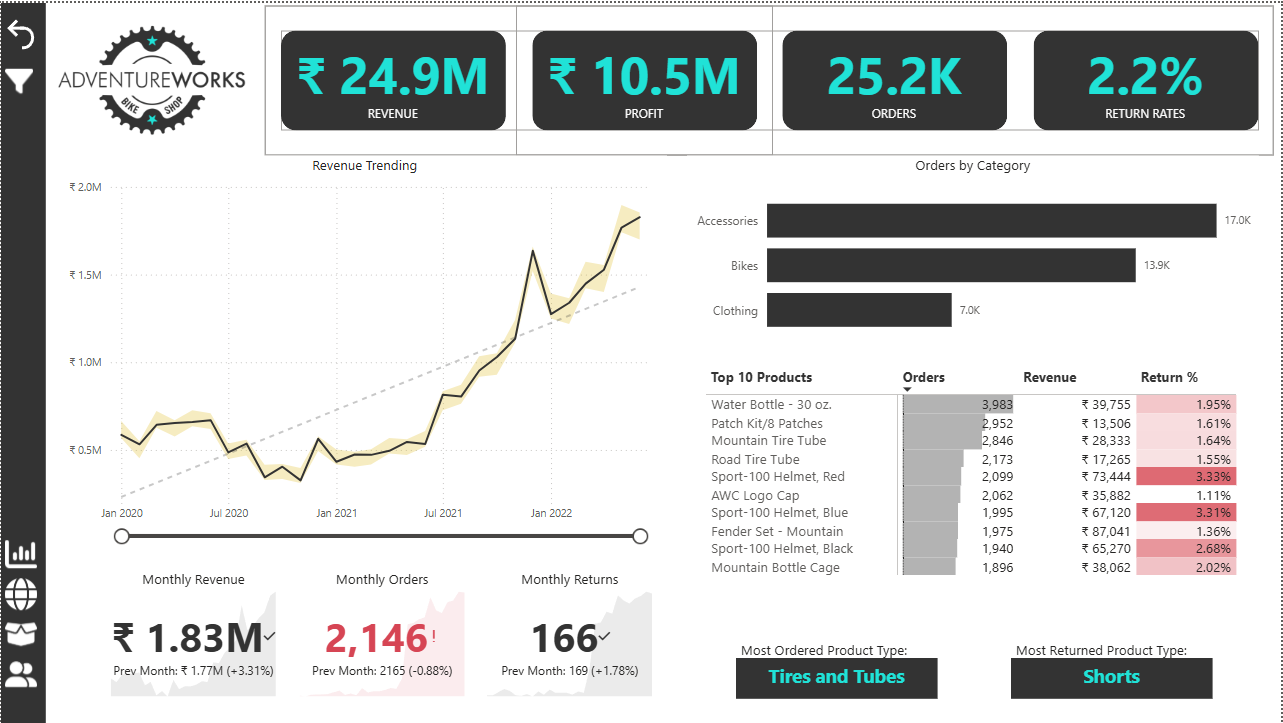

This screenshot's page, from the dashboard's own definition file:
{"tool":"powerbi","page":{"name":"Exec Dashboard","canvas":[1280,720],"ordinal":0},"visuals":[{"type":"card","fields":{"Values":["Measure Table.Total Profit"]},"box":[514.6,2.5,256.2,150],"z":0,"group":"g2"},{"type":"image","title":"AW Logo","box":[32.5,11.2,237.5,132.5],"z":0},{"type":"group","id":"g1","title":"KPI Background","box":[280,27.5,977.5,100],"z":0,"group":"g3"},{"type":"shape","box":[280,27.5,225,100],"z":0,"group":"g1"},{"type":"actionButton","box":[0,531.2,45,40],"z":0,"group":"g4"},{"type":"shape","title":"Left Nav Background","box":[0,0,45,720],"z":1000},{"type":"group","id":"g2","title":"KPI Values","box":[263.8,2.5,1008.8,150],"z":1000,"group":"g3"},{"type":"card","fields":{"Values":["Measure Table.Total Orders"]},"box":[765.5,2.5,256.2,150],"z":1000,"group":"g2"},{"type":"shape","box":[1032.5,27.5,225,100],"z":1000,"group":"g1"},{"type":"actionButton","box":[0,571.2,45,40],"z":1000,"group":"g4"},{"type":"group","id":"g3","title":"KPI's","box":[263.8,2.5,1008.8,150],"z":2000},{"type":"card","fields":{"Values":["Measure Table.Return Rate"]},"box":[1016.3,2.5,256.2,150],"z":2000,"group":"g2"},{"type":"shape","box":[530.8,27.5,225,100],"z":2000,"group":"g1"},{"type":"actionButton","box":[0,611.2,45,40],"z":2000,"group":"g4"},{"type":"card","fields":{"Values":["Measure Table.Total Revenue"]},"box":[263.8,2.5,256.2,150],"z":3000,"group":"g2"},{"type":"shape","box":[781.7,27.5,225,100],"z":3000,"group":"g1"},{"type":"lineChart","title":"Revenue Trending","fields":{"Y":["Measure Table.Total Revenue"],"Category":["Calendar Lookup.Start of Month"]},"box":[62.5,152.5,602.5,391.2],"z":3000},{"type":"actionButton","box":[0,651.2,45,40],"z":3000,"group":"g4"},{"type":"kpi","title":"Monthly Revenue","fields":{"Indicator":["Measure Table.Total Revenue"],"TrendLine":["Calendar Lookup.Start of Month"],"Goal":["Measure Table.Previous Month Revenue"]},"box":[105,566.2,175,132.5],"z":4000},{"type":"kpi","title":"Monthly Orders","fields":{"TrendLine":["Calendar Lookup.Start of Month"],"Indicator":["Measure Table.Total Orders"],"Goal":["Measure Table.Previous Month Orders"]},"box":[293.1,566.2,175,132.5],"z":5000},{"type":"kpi","title":"Monthly Returns","fields":{"TrendLine":["Calendar Lookup.Start of Month"],"Indicator":["Measure Table.Total Returns"],"Goal":["Measure Table.Previous Month Returns"]},"box":[481.2,566.2,175,132.5],"z":6000},{"type":"clusteredBarChart","title":"Orders by Category","fields":{"Category":["Product Categories Lookup.CategoryName"],"Y":["Measure Table.Total Orders"]},"box":[686.2,152.5,571.2,196.2],"z":7000},{"type":"pivotTable","fields":{"Rows":["Product Lookup.ProductName"],"Values":["Measure Table.Total Orders","Measure Table.Total Revenue","Measure Table.Return Rate"]},"box":[700.6,359.5,541.1,224.5],"z":8000},{"type":"card","fields":{"Values":["Min(Product Subcategories Lookup.SubcategoryName)"]},"box":[735.2,655.5,201.2,40.5],"z":9000},{"type":"textbox","box":[735,632.5,201.2,40],"z":10000},{"type":"card","fields":{"Values":["Min(Product Subcategories Lookup.SubcategoryName)"]},"box":[1010.1,655.5,201.2,40.5],"z":11000},{"type":"textbox","box":[1010,632.5,201.2,40],"z":12000},{"type":"actionButton","box":[0,11.2,45,40],"z":13000},{"type":"group","id":"g4","title":"Navigation Buttons","box":[0,531.2,45,160],"z":14000},{"type":"actionButton","box":[0,60,45,36.2],"z":15000}]}

Visuals, with their boxes on the page's 1280x720 design canvas (x1, y1, x2, y2). These are canvas units, not pixel positions in the 1283x723 screenshot, which may show the page scaled, cropped or inside an application window:
card - Measure Table.Total Profit: bbox=[515, 2, 771, 152]
"AW Logo" image: bbox=[32, 11, 270, 144]
"KPI Background" group: bbox=[280, 28, 1258, 128]
shape: bbox=[280, 28, 505, 128]
actionButton: bbox=[0, 531, 45, 571]
"Left Nav Background" shape: bbox=[0, 0, 45, 720]
"KPI Values" group: bbox=[264, 2, 1273, 152]
card - Measure Table.Total Orders: bbox=[766, 2, 1022, 152]
shape: bbox=[1032, 28, 1258, 128]
actionButton: bbox=[0, 571, 45, 611]
"KPI's" group: bbox=[264, 2, 1273, 152]
card - Measure Table.Return Rate: bbox=[1016, 2, 1272, 152]
shape: bbox=[531, 28, 756, 128]
actionButton: bbox=[0, 611, 45, 651]
card - Measure Table.Total Revenue: bbox=[264, 2, 520, 152]
shape: bbox=[782, 28, 1007, 128]
"Revenue Trending" lineChart: bbox=[62, 152, 665, 544]
actionButton: bbox=[0, 651, 45, 691]
"Monthly Revenue" kpi: bbox=[105, 566, 280, 699]
"Monthly Orders" kpi: bbox=[293, 566, 468, 699]
"Monthly Returns" kpi: bbox=[481, 566, 656, 699]
"Orders by Category" clusteredBarChart: bbox=[686, 152, 1257, 349]
pivotTable - Product Lookup.ProductName x Measure Table.Total Orders: bbox=[701, 360, 1242, 584]
card - Min(Product Subcategories Lookup.SubcategoryName): bbox=[735, 656, 936, 696]
textbox: bbox=[735, 632, 936, 672]
card - Min(Product Subcategories Lookup.SubcategoryName): bbox=[1010, 656, 1211, 696]
textbox: bbox=[1010, 632, 1211, 672]
actionButton: bbox=[0, 11, 45, 51]
"Navigation Buttons" group: bbox=[0, 531, 45, 691]
actionButton: bbox=[0, 60, 45, 96]
